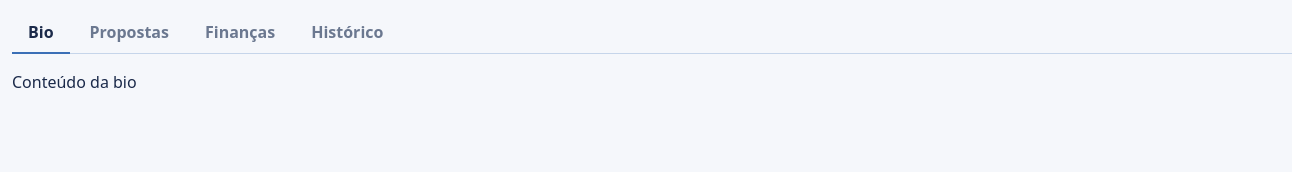
Test: ProfileTabs › shows the activated tab panel and sets aria-selected on click (Req 4.4)
Click the tab "Finanças". click: (240, 33)
box: [189,12,291,54]
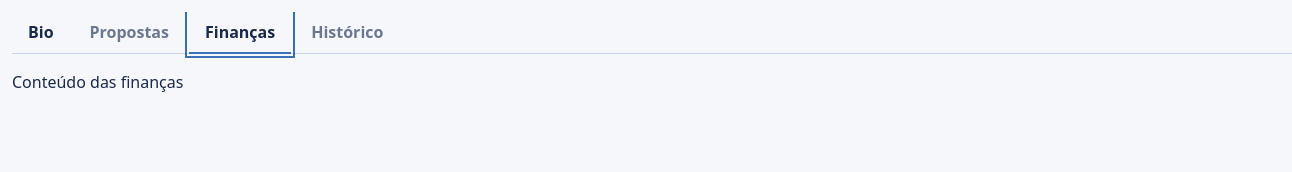
Now the text "Conteúdo das finanças" is shown, box [12,71,183,93]
Now the text "Conteúdo da bio" is gone
